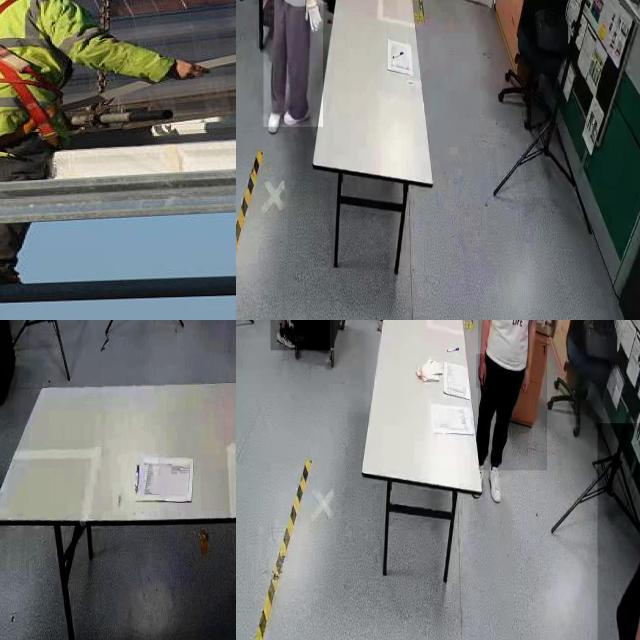Harness: (0, 0, 62, 165)
hand_glove: (302, 0, 325, 32)
hand_noglove: (476, 354, 486, 388), (521, 362, 529, 395)
person: (478, 320, 547, 471), (263, 0, 323, 127)
shoes: (282, 99, 312, 129), (262, 94, 282, 138), (275, 320, 299, 350), (488, 462, 502, 504)
